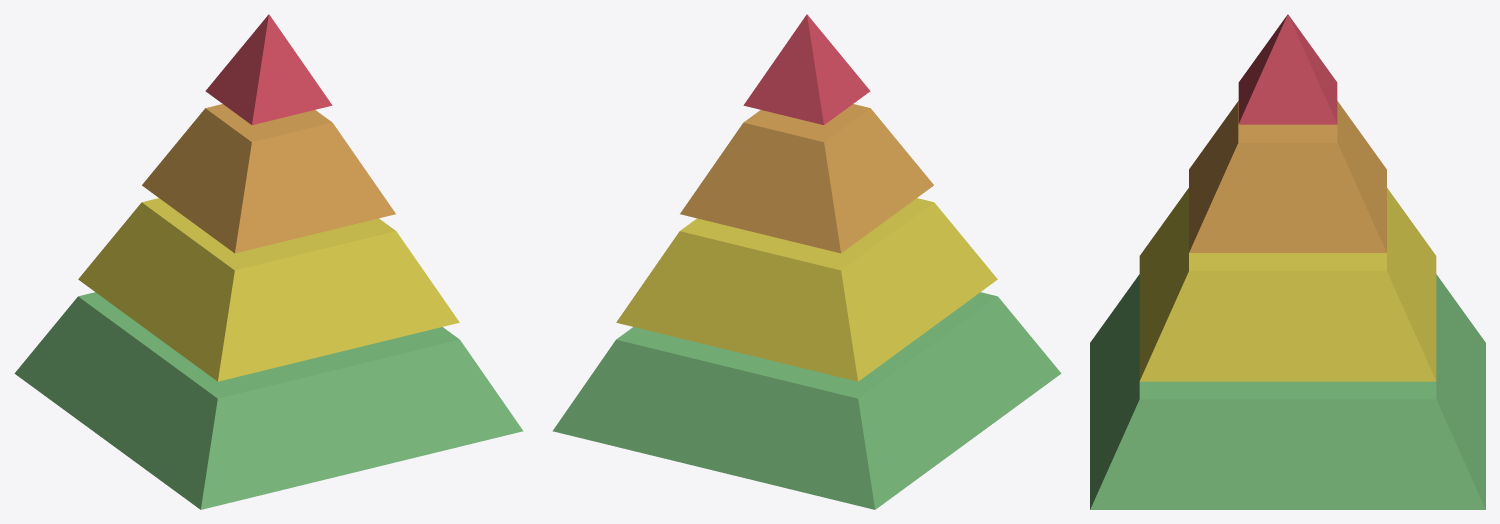
The model's file is Piramide IA act.glb.
3 renders of one model, left to right at view 1: azimuth 30°, elevation 25°; view 2: azimuth 150°, elevation 25°; view 3: azimuth 270°, elevation 25°, orthographic. The views are drawn at different scales.
Visible parts, largest first — view 1: Mesh_Mesh_head_geo.001_lambert2SG.001; view 2: Mesh_Mesh_head_geo.001_lambert2SG.001; view 3: Mesh_Mesh_head_geo.001_lambert2SG.001.
Part boxes in pixels (box(x1,y1,x2,y2)): Mesh_Mesh_head_geo.001_lambert2SG.001: box(14, 14, 523, 509); Mesh_Mesh_head_geo.001_lambert2SG.001: box(552, 14, 1061, 509); Mesh_Mesh_head_geo.001_lambert2SG.001: box(1090, 14, 1485, 509).
Size of the model in its own units: 0.02 by 0.023 by 0.02.
